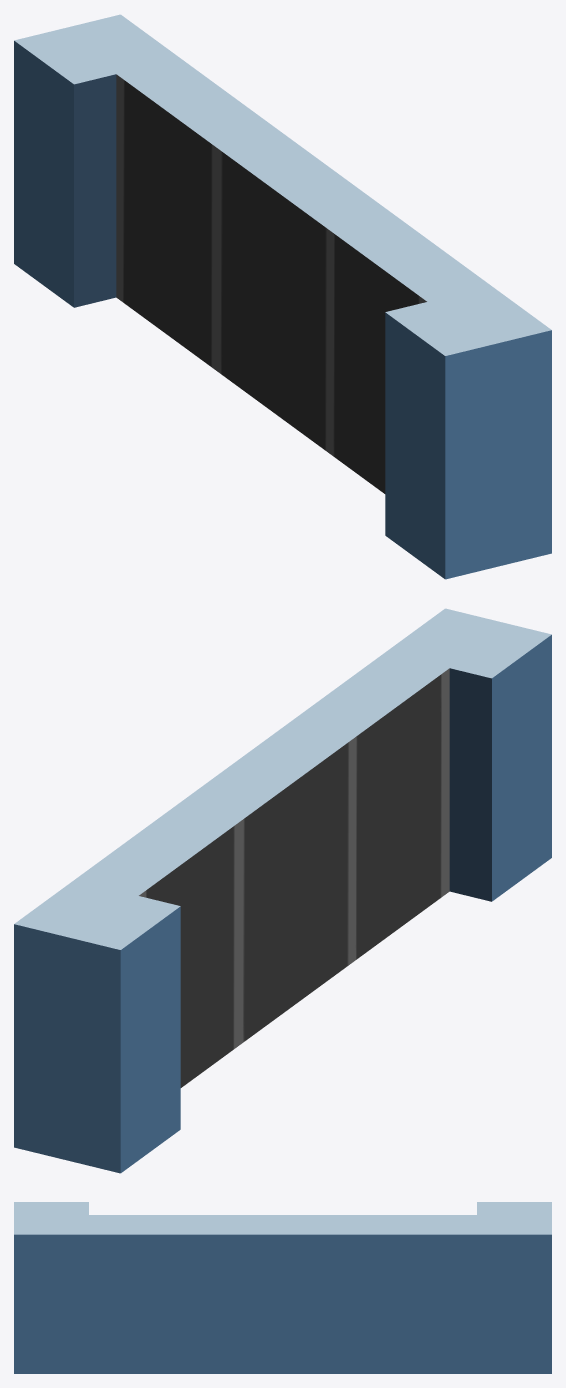
Rendered from office_window_medium.fbx.
The picture shows the model from 3 angles, top to bottom: view 1: azimuth 30°, elevation 25°; view 2: azimuth 150°, elevation 25°; view 3: azimuth 270°, elevation 25°; orthographic projection. The views are drawn at different scales.
Visible parts, largest first — view 1: office_small_mesh; view 2: office_small_mesh; view 3: office_small_mesh.
Part boxes in pixels (x1,y1,x2,y2): office_small_mesh: [14, 14, 551, 579]; office_small_mesh: [14, 608, 551, 1173]; office_small_mesh: [14, 1202, 551, 1373].
Bounding box in the file's own units: 1 × 2 × 7.
1 material, 1 textured.
